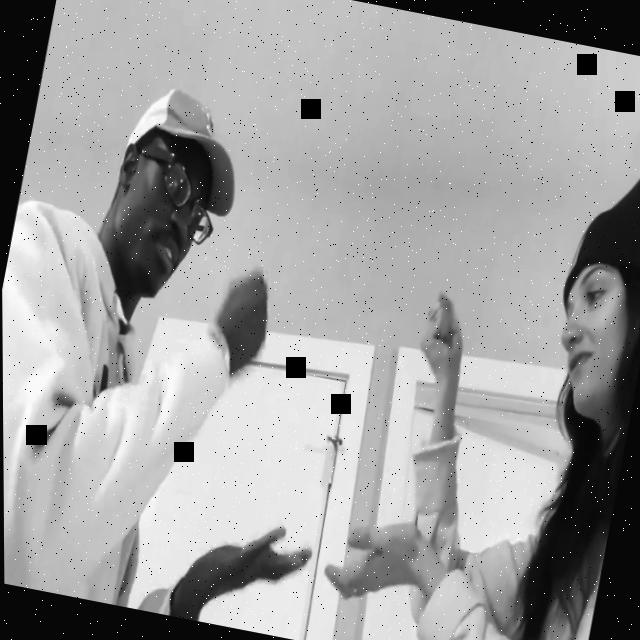Rock: (208, 264, 278, 388), (413, 288, 474, 391)
